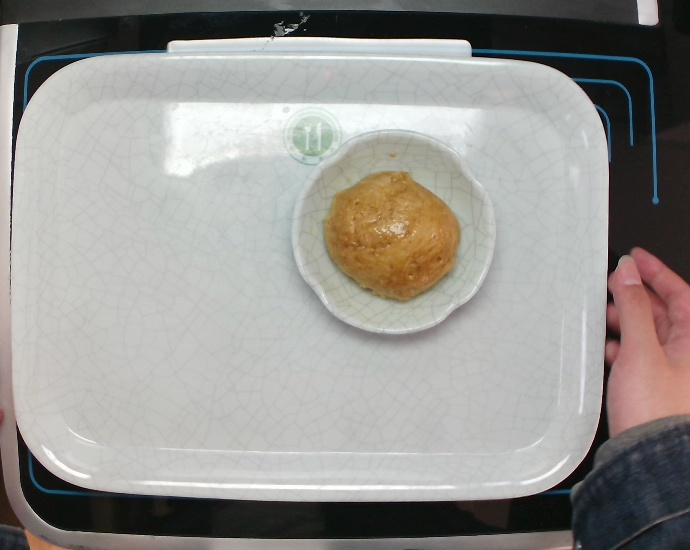JYsf-Ao_Yuan_Wan: (285, 124, 502, 340)
